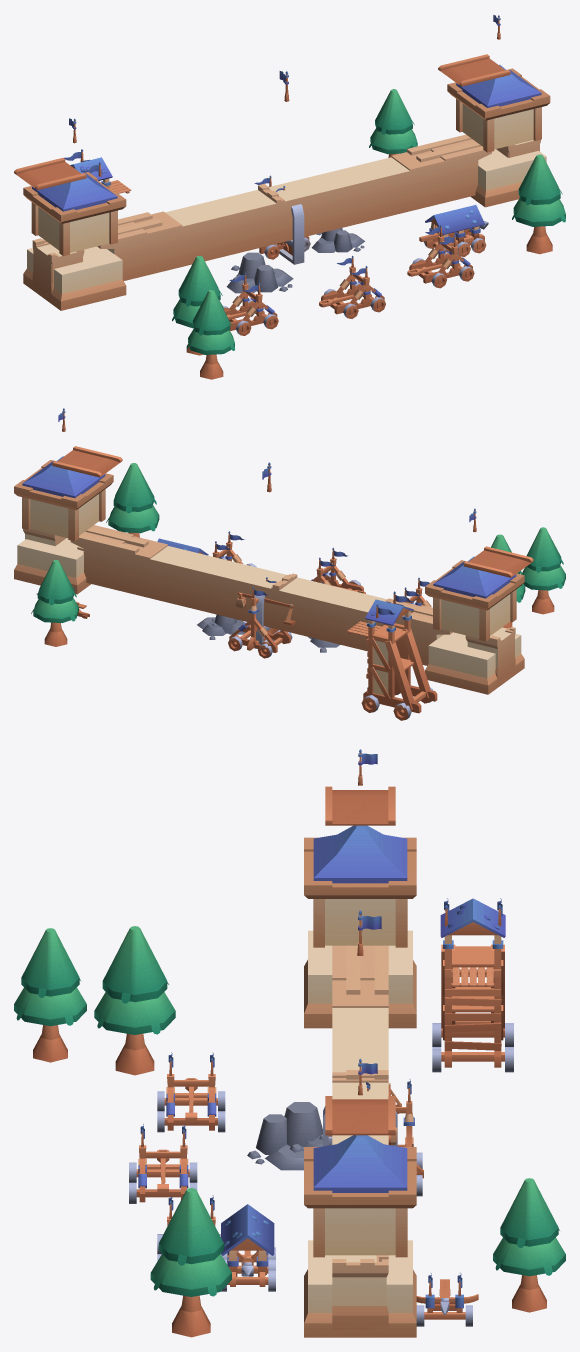
File: paired-animation.glb
The picture shows the model from 3 angles, top to bottom: view 1: azimuth 30°, elevation 25°; view 2: azimuth 150°, elevation 25°; view 3: azimuth 270°, elevation 25°; orthographic projection. The views are drawn at different scales.
Parts seen in each view (by area): view 1: wall_main, tower_base_left, tree_right_1, tower_roof_left, tower_roof_right, tower_mid_left, tower_mid_right, tree_left_2, tower_base_right, tree_right_2, tree_left_1, ram.001 (+12 smaller); view 2: wall_main, siege_tower, tower_base_left, tower_roof_left, tower_roof_right, tower_mid_left, tower_mid_right, tower_base_right, tree_right_1, tree_right_2, tree_left_2, wall_left_corner (+9 smaller); view 3: siege_tower, wall_main, tower_roof_right, tower_roof_left, tree_left_1, tree_right_1, tree_left_2, tree_right_2, tower_base_right, tower_base_left, tower_mid_right, wall_right_corner (+9 smaller).
Boxes of the visible parts, x1,y1,x2,y2 form: wall_main: (97,134,491,280); tower_base_left: (23,246,126,310); tree_right_1: (512,154,565,254); tower_roof_left: (23,168,126,223); tower_roof_right: (447,64,550,120); tower_mid_left: (31,202,117,256); tower_mid_right: (456,99,541,152); tree_left_2: (186,290,234,379); tower_base_right: (471,149,546,207); tree_right_2: (369,89,417,157); tree_left_1: (172,256,223,355); ram.001: (425,205,484,247); wall_main: (70,525,452,665); siege_tower: (347,591,437,713); tower_base_left: (425,632,524,694); tower_roof_left: (425,556,524,610); tower_roof_right: (14,456,113,510); tower_mid_left: (433,589,516,641); tower_mid_right: (22,489,105,541); tower_base_right: (14,538,90,594); tree_right_1: (106,463,159,537); tree_right_2: (31,560,78,646); tree_left_2: (522,527,565,614); wall_left_corner: (465,627,515,682); siege_tower: (440,898,505,1067); wall_main: (332,945,388,1144); tower_roof_right: (304,1135,416,1208); tower_roof_left: (304,825,416,898); tree_left_1: (94,926,175,1075); tree_right_1: (150,1188,231,1337); tree_left_2: (14,928,86,1062); tree_right_2: (493,1178,565,1312); tower_base_right: (304,1240,416,1337); tower_base_left: (304,930,416,1028); tower_mid_right: (313,1208,407,1257); wall_right_corner: (332,1255,388,1329).
Size of what is drawn, in the model's own units: 15.5 by 5.64 by 9.8.
Materials: 29 (29 with a texture image).
